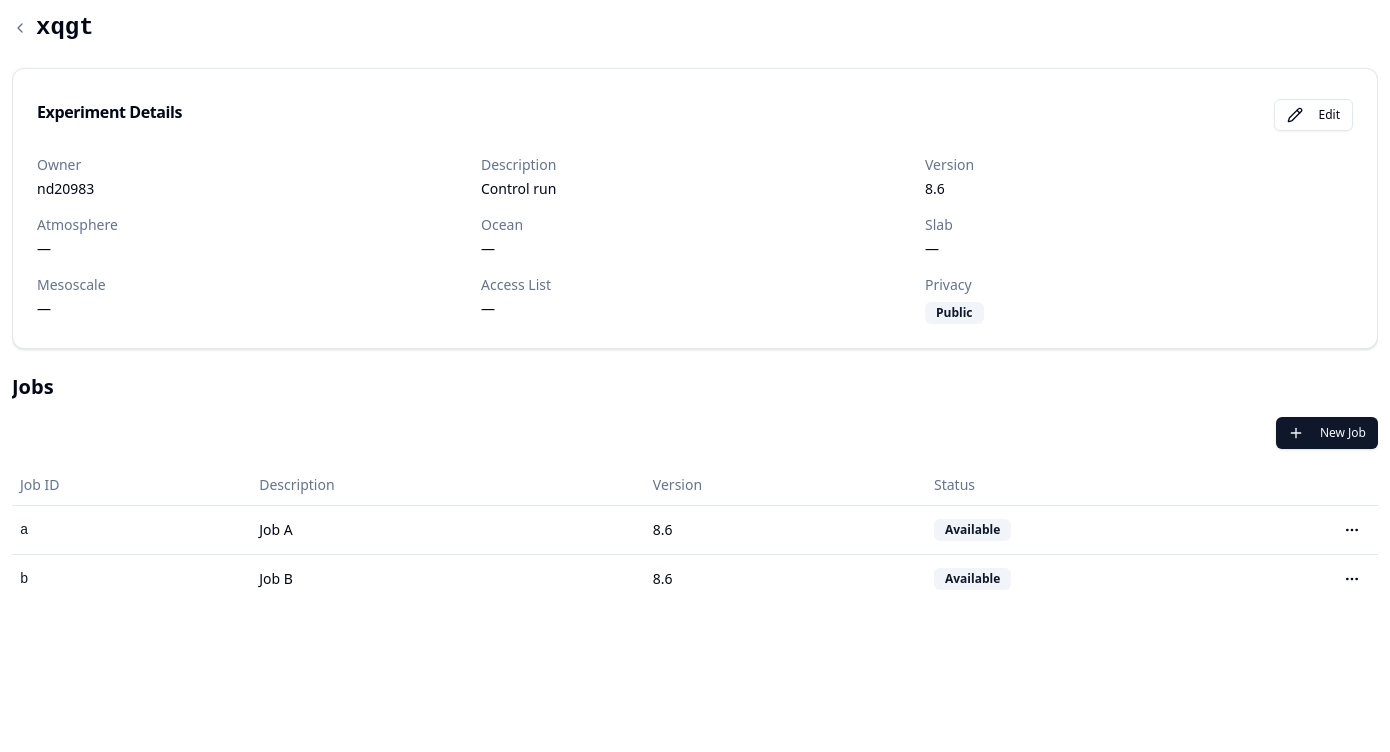
Test case: Experiment CRUD flow › opens edit form on experiment detail
What coordinates should you click on to do the following:
click the button "Edit"
I would click on:
 (1313, 115)
Its box is [1274, 99, 1353, 131].
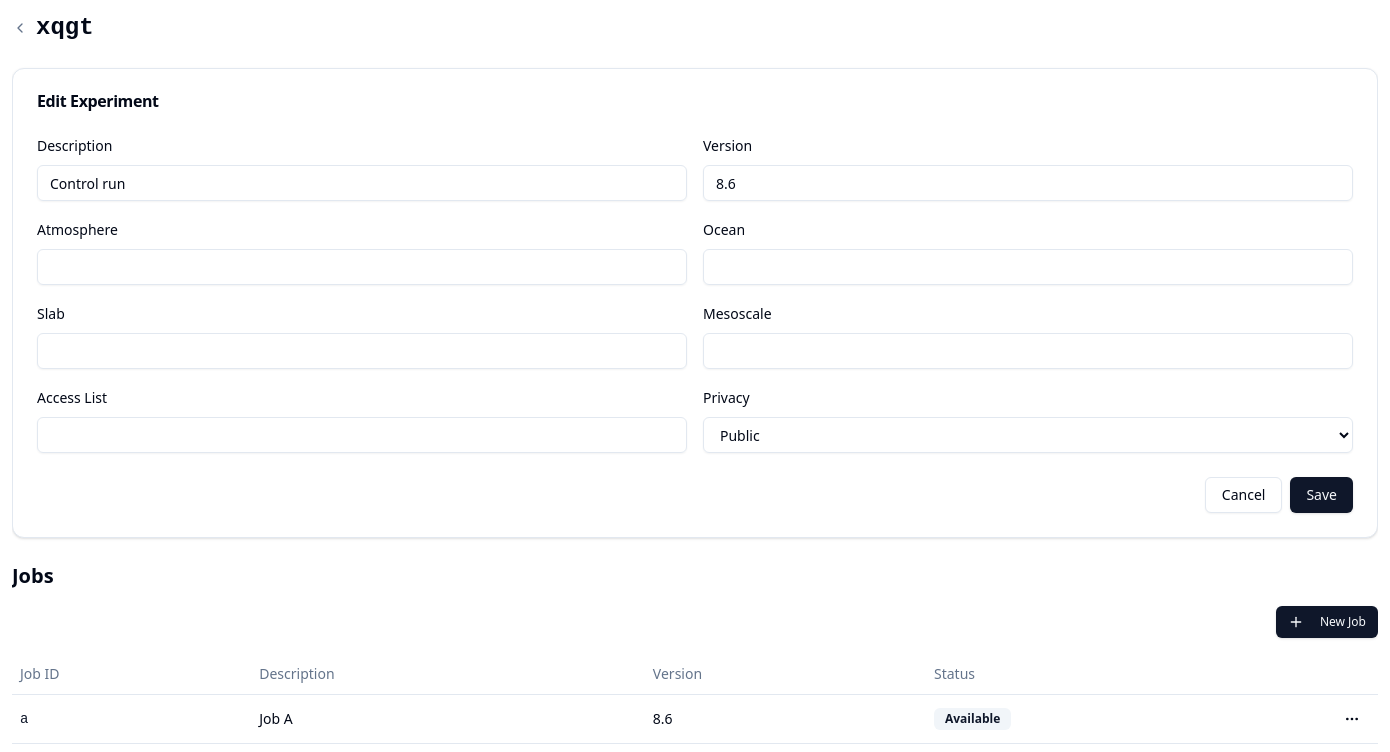
Expected: the text "Edit Experiment" is shown, [37, 90, 159, 112]
Expected: the field labelled "Description" is shown, [37, 165, 687, 201]
